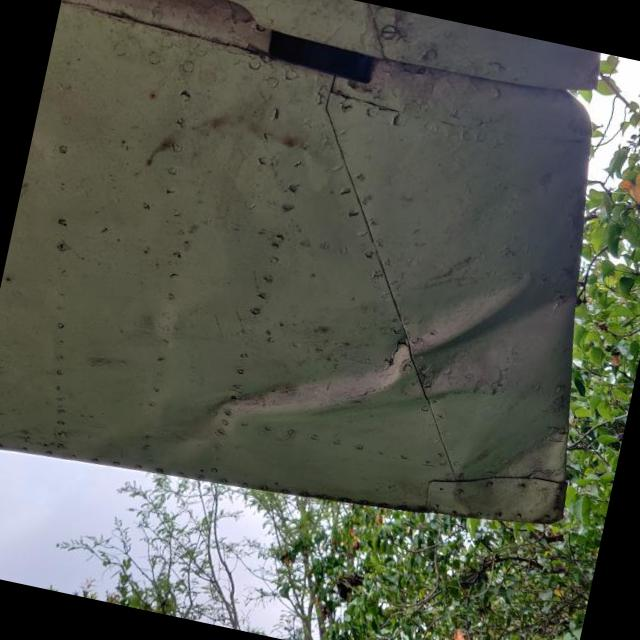Crack: (385, 340, 407, 367)
Dent: (238, 218, 580, 480), (81, 372, 265, 488)
